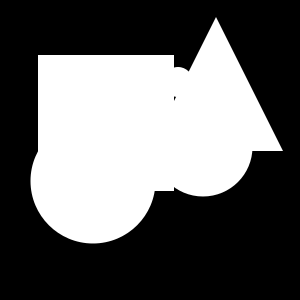circle: (38, 55, 174, 191)
rectangle: (30, 118, 156, 244), (153, 97, 252, 196), (163, 67, 193, 97)
triangle: (149, 17, 283, 151)
